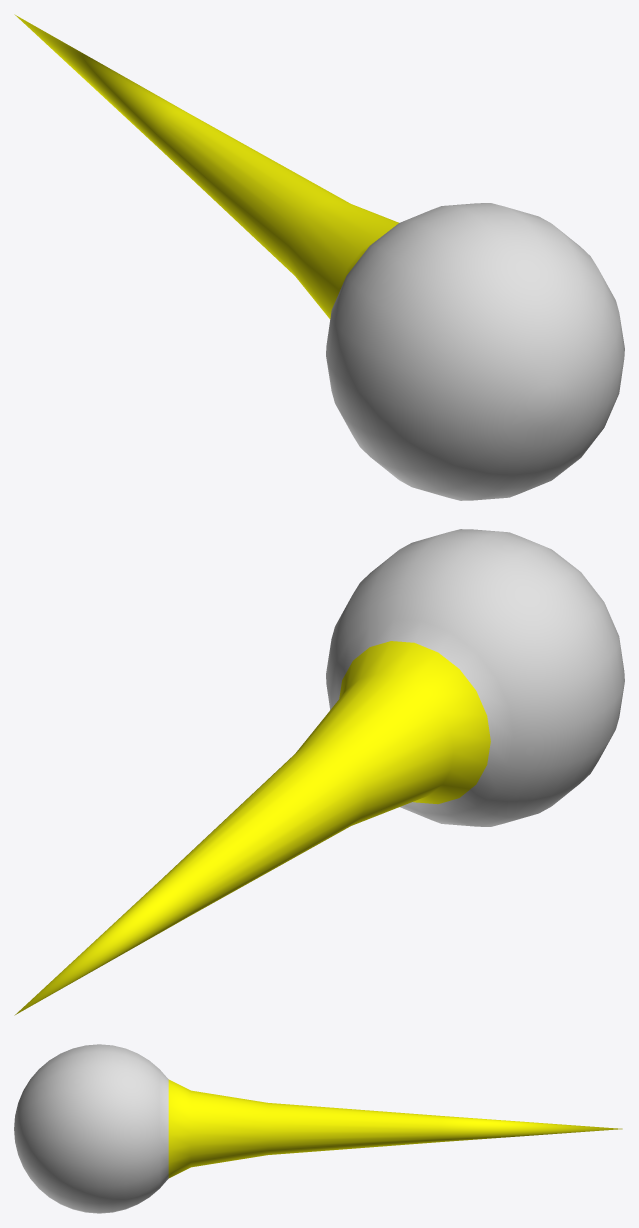
The model's file is bullet.fbx.
The picture shows the model from 3 angles, top to bottom: view 1: azimuth 30°, elevation 25°; view 2: azimuth 150°, elevation 25°; view 3: azimuth 270°, elevation 25°; orthographic projection. The views are drawn at different scales.
Parts seen in each view (by area): view 1: pSphere1; view 2: pSphere1; view 3: pSphere1.
Boxes of the visible parts, x1,y1,x2,y2 form: pSphere1: (14,14,624,500); pSphere1: (14,529,624,1015); pSphere1: (14,1044,622,1213).
Size of the model in its own units: 11.62 by 11.62 by 41.63.
